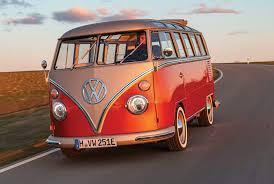volkswagen: (78, 74, 112, 108)
